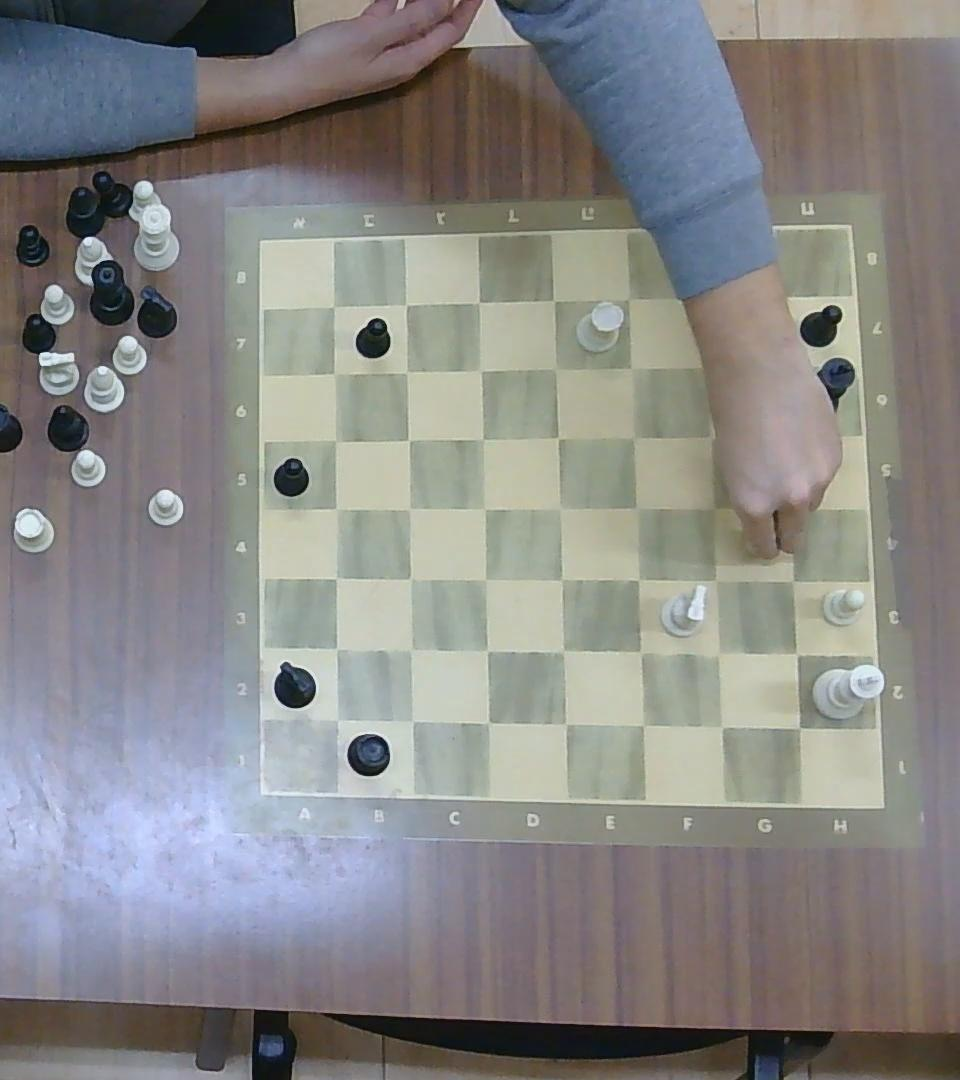xcorner: (683, 281, 718, 315), (703, 708, 737, 742), (764, 347, 798, 381), (781, 710, 815, 743), (702, 636, 734, 669), (626, 707, 658, 740), (548, 707, 579, 740), (625, 634, 655, 668), (547, 635, 578, 667), (781, 637, 812, 668), (321, 703, 352, 734), (472, 706, 502, 738), (622, 562, 652, 594), (776, 565, 808, 595), (471, 634, 501, 665), (547, 563, 577, 594), (470, 563, 500, 594), (396, 705, 427, 735), (700, 563, 730, 594), (618, 350, 648, 381), (772, 421, 801, 453), (615, 283, 645, 313), (545, 492, 574, 523), (541, 285, 570, 315), (395, 635, 425, 664), (699, 491, 728, 521), (622, 491, 651, 521), (774, 491, 804, 520), (470, 493, 499, 522), (543, 353, 572, 382), (395, 564, 424, 593), (545, 422, 573, 451), (395, 424, 423, 453), (621, 422, 649, 451), (321, 564, 350, 592), (689, 351, 717, 380), (761, 282, 789, 311), (467, 424, 495, 452), (322, 635, 350, 663), (465, 286, 493, 314), (320, 291, 348, 319), (396, 493, 423, 522), (699, 422, 726, 451), (321, 426, 349, 453), (323, 494, 351, 521), (467, 354, 493, 381), (321, 360, 349, 385), (392, 291, 419, 316), (393, 358, 419, 383)
